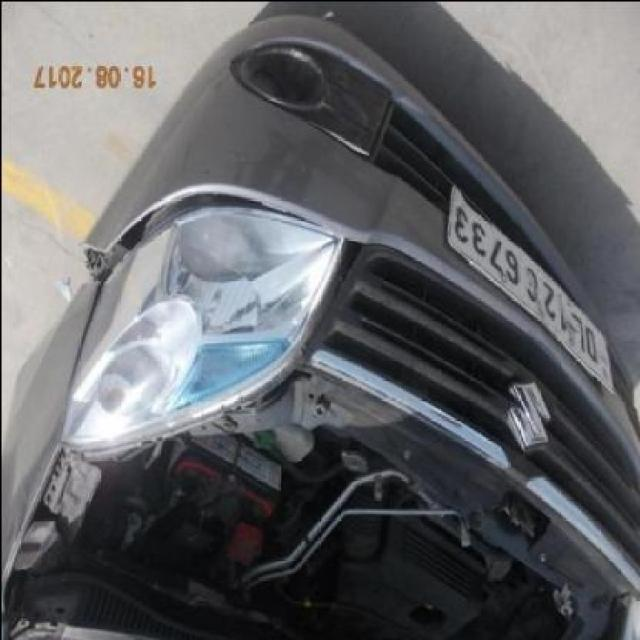damage: (82, 180, 339, 289)
